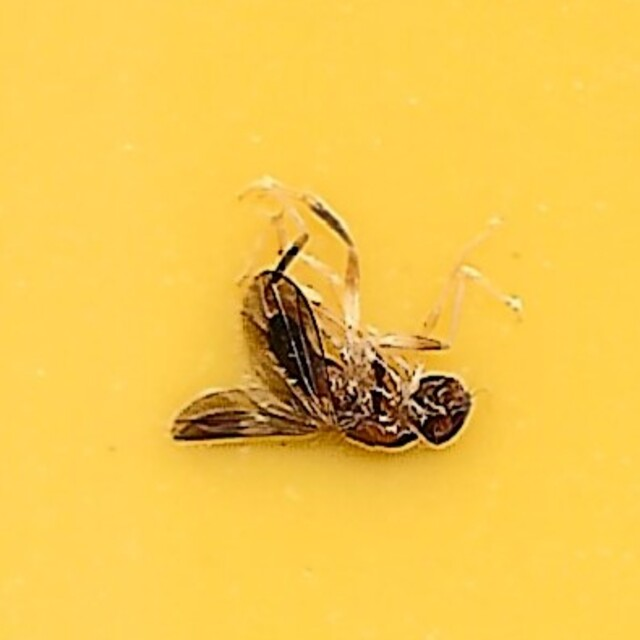Brachycera: (162, 175, 478, 465)
